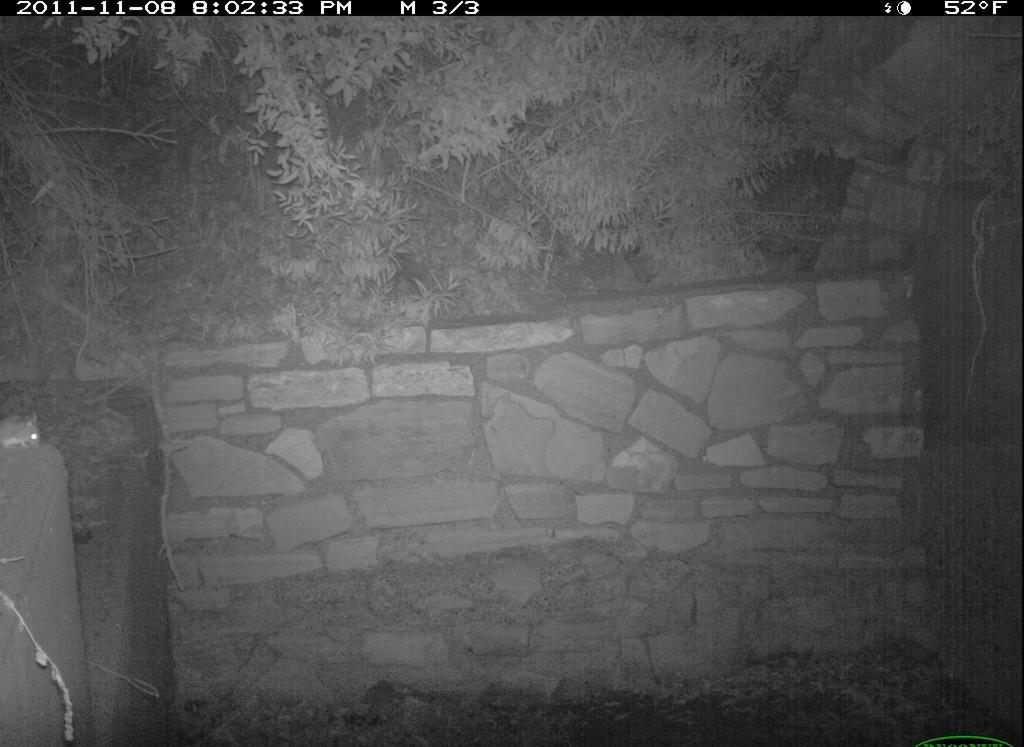rodent: (1, 418, 54, 455)
